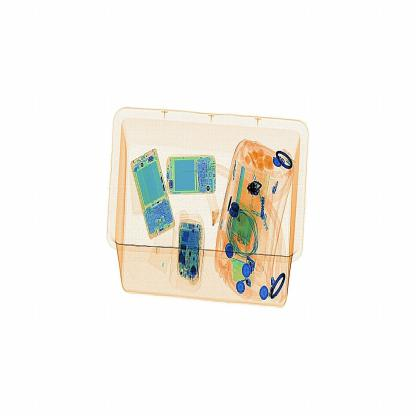scissors: (246, 176, 264, 199)
